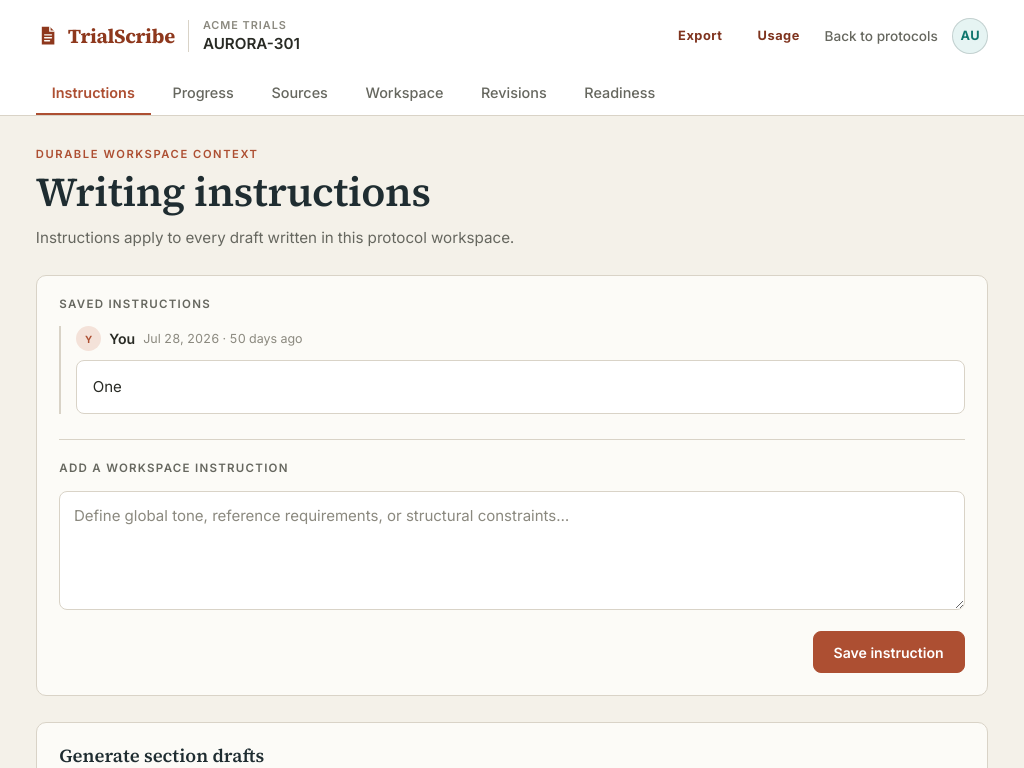
Test case: WorkspaceInstructionsPage › rejects a blank instruction without issuing a request
Expected: the text box labelled "Add a workspace instruction" is shown, x1=59 y1=491 x2=965 y2=610
Click the button "Save instruction".
click(889, 652)  # box x1=812 y1=631 x2=965 y2=673
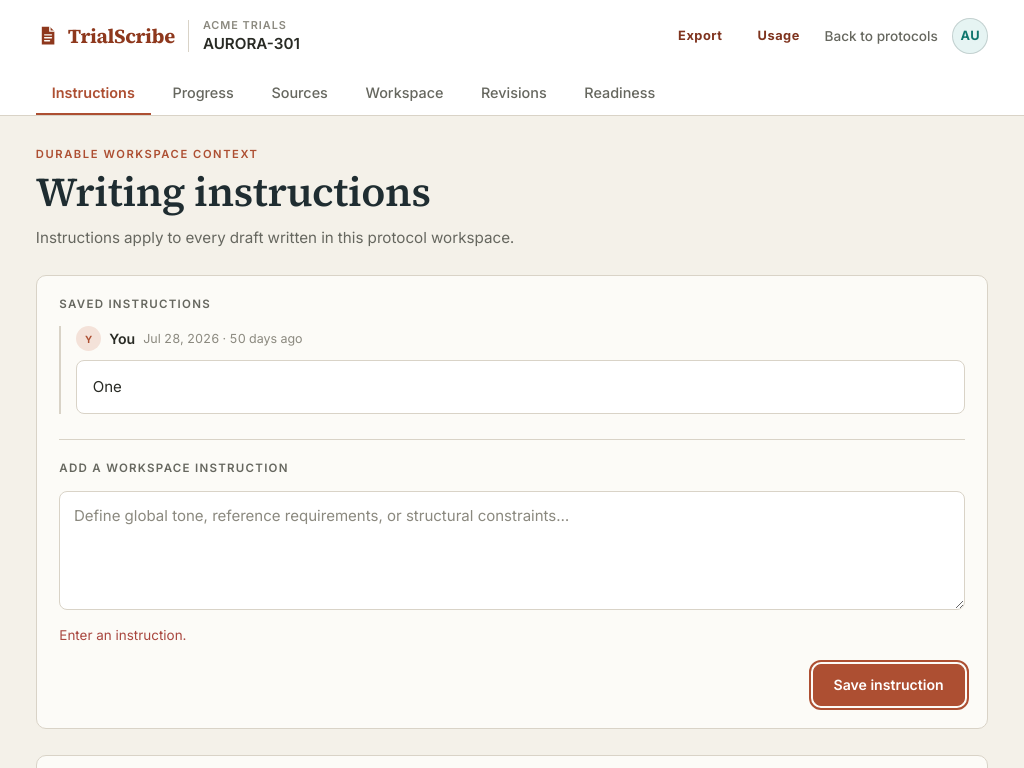
Now the message reads "Enter an instruction.", box x1=59 y1=627 x2=186 y2=643
